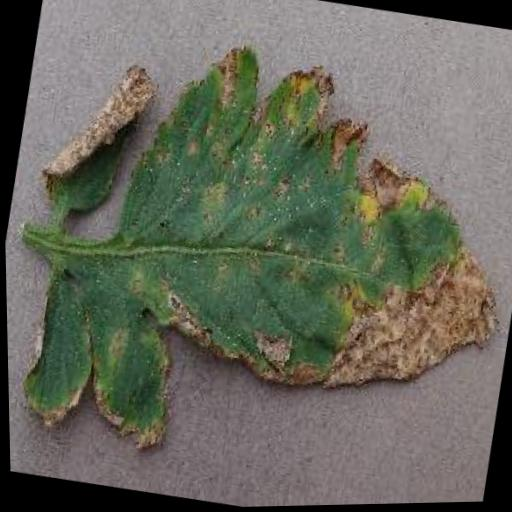Bacterial Spot: (0, 9, 512, 512)
